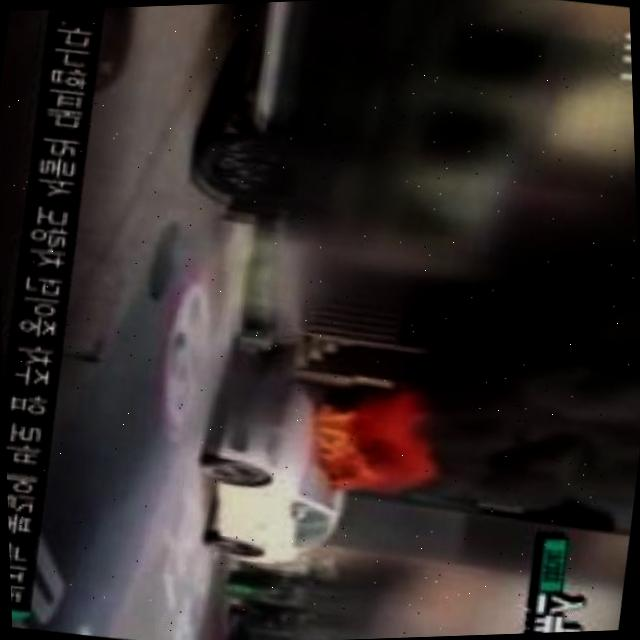fire: (302, 376, 458, 496)
